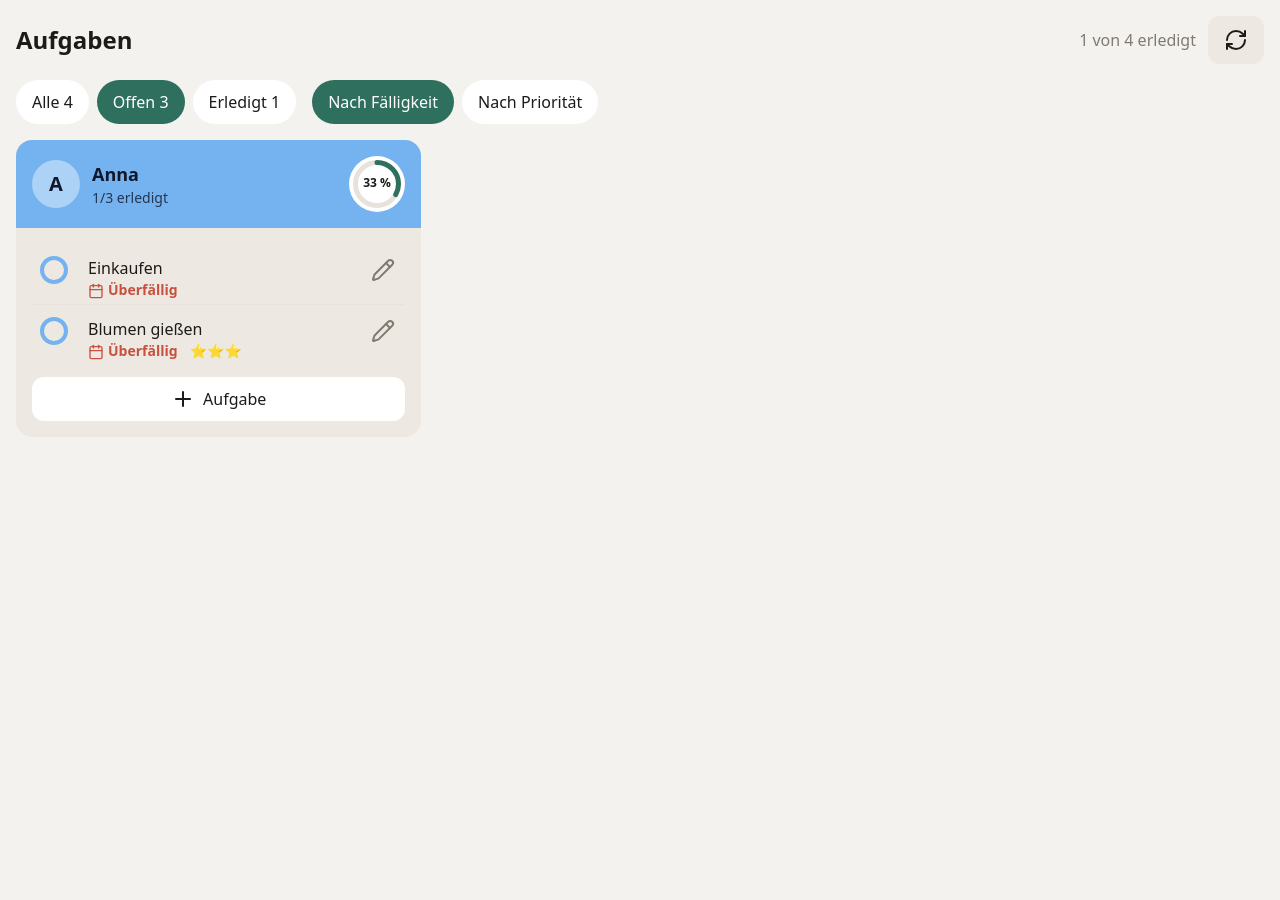
Test: TasksView › opens the dialog for an existing task
Click the button named "Einkaufen bearbeiten": coordinates (383, 270) [361, 248, 405, 292]
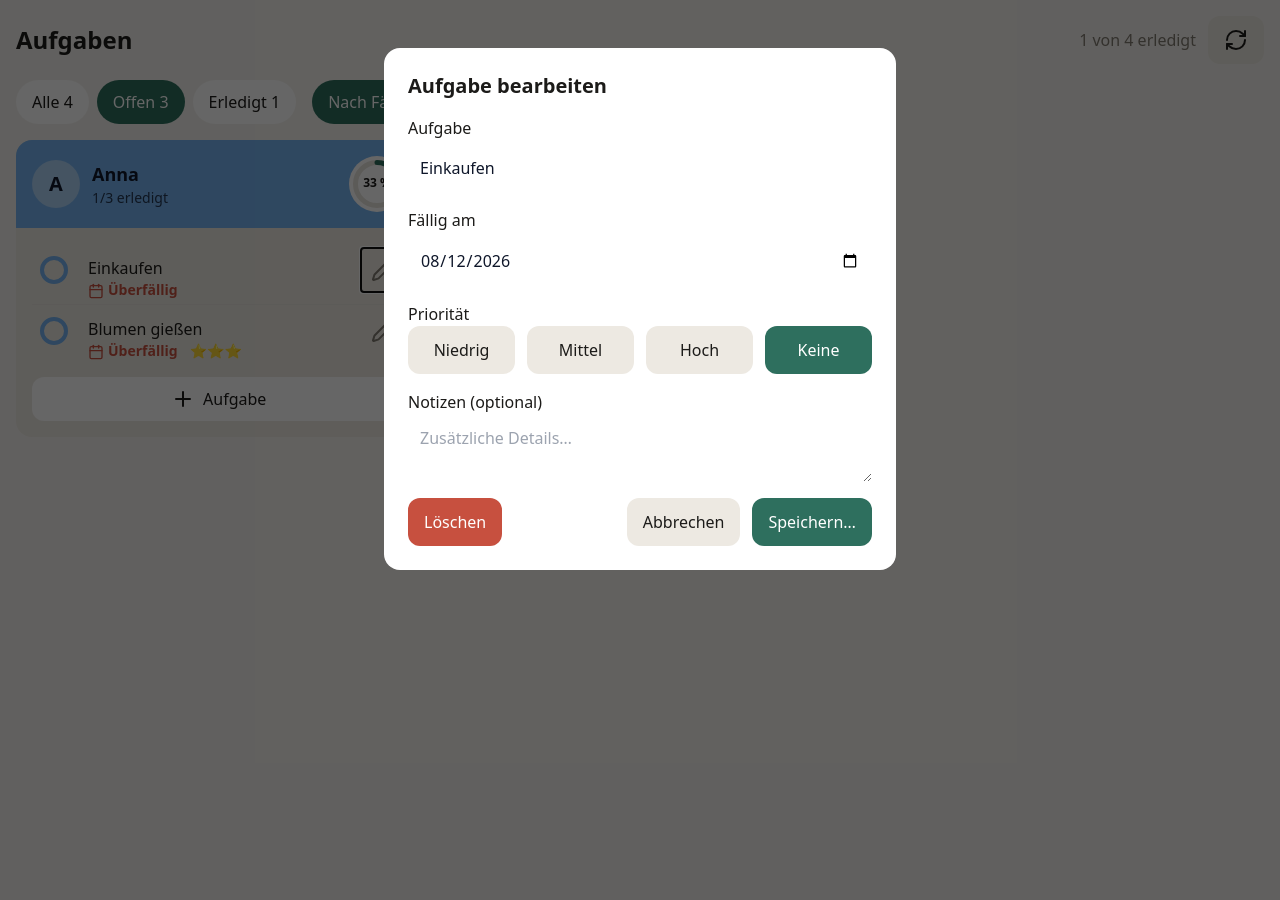
Expected: the dialog "Aufgabe bearbeiten" is shown
Expected: the field labelled "Aufgabe" holds "Einkaufen", [408, 144, 872, 192]
